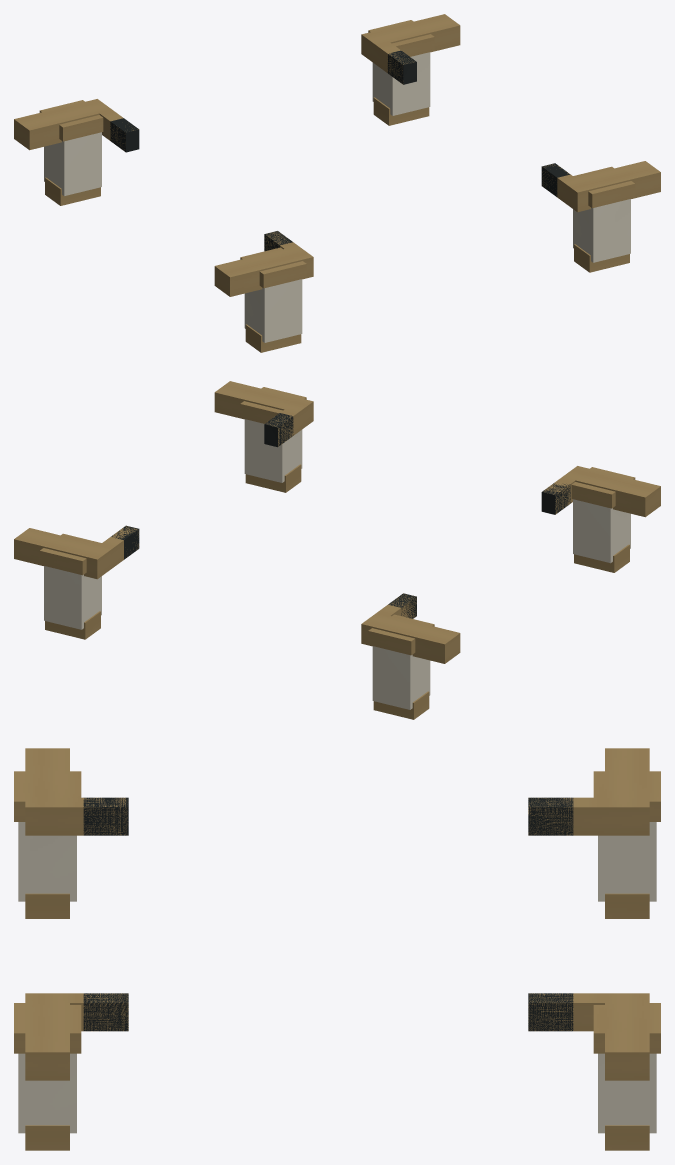
The model's file is AUDIT_AST-TRM-G4-026_cart_restraint_hardware_r003.glb.
3 renders of one model, top to bottom at view 1: azimuth 30°, elevation 25°; view 2: azimuth 150°, elevation 25°; view 3: azimuth 270°, elevation 25°, orthographic. The views are drawn at different scales.
Visible parts, largest first — view 1: PORT_1_DrivePod, STARBOARD_1_DrivePod, PORT_0_DrivePod, STARBOARD_0_DrivePod, PORT_1_SliderArm, PORT_0_SliderArm, STARBOARD_0_SliderArm, STARBOARD_1_SliderArm, STARBOARD_0_CornerFinger, STARBOARD_1_CornerFinger, PORT_1_PodCrown, STARBOARD_1_PodCrown (+11 smaller); view 2: PORT_0_DrivePod, STARBOARD_0_DrivePod, PORT_1_DrivePod, STARBOARD_1_DrivePod, PORT_0_SliderArm, PORT_1_SliderArm, STARBOARD_0_SliderArm, STARBOARD_1_SliderArm, STARBOARD_0_CornerFinger, STARBOARD_1_CornerFinger, PORT_0_PodCrown, STARBOARD_0_PodCrown (+11 smaller); view 3: PORT_0_CornerFinger, STARBOARD_0_SliderArm, STARBOARD_1_SliderArm, PORT_0_DrivePod, PORT_1_DrivePod, STARBOARD_0_DrivePod, STARBOARD_1_DrivePod, PORT_1_CornerFinger, PORT_0_SliderArm, PORT_1_SliderArm, STARBOARD_0_CornerFinger, PORT_0_ContactPad (+12 smaller).
Part boxes in pixels (<box>): PORT_1_DrivePod: <box>244,279,302,342</box>; STARBOARD_1_DrivePod: <box>573,199,630,262</box>; PORT_0_DrivePod: <box>44,132,101,196</box>; STARBOARD_0_DrivePod: <box>372,52,430,115</box>; PORT_1_SliderArm: <box>214,247,307,296</box>; PORT_0_SliderArm: <box>14,100,107,150</box>; STARBOARD_0_SliderArm: <box>367,14,460,52</box>; STARBOARD_1_SliderArm: <box>568,161,660,210</box>; STARBOARD_0_CornerFinger: <box>361,31,414,84</box>; STARBOARD_1_CornerFinger: <box>541,164,590,212</box>; PORT_1_PodCrown: <box>240,247,306,288</box>; STARBOARD_1_PodCrown: <box>573,166,635,208</box>; PORT_0_DrivePod: <box>372,646,430,709</box>; STARBOARD_0_DrivePod: <box>44,566,101,629</box>; PORT_1_DrivePod: <box>573,499,630,563</box>; STARBOARD_1_DrivePod: <box>244,419,302,482</box>; PORT_0_SliderArm: <box>367,615,460,663</box>; PORT_1_SliderArm: <box>567,467,660,517</box>; STARBOARD_0_SliderArm: <box>14,528,98,577</box>; STARBOARD_1_SliderArm: <box>214,381,307,419</box>; STARBOARD_0_CornerFinger: <box>84,526,139,579</box>; STARBOARD_1_CornerFinger: <box>266,398,313,446</box>; PORT_0_PodCrown: <box>368,614,434,655</box>; STARBOARD_0_PodCrown: <box>39,533,101,575</box>; PORT_0_CornerFinger: <box>528,797,649,835</box>; STARBOARD_0_SliderArm: <box>605,997,649,1080</box>; STARBOARD_1_SliderArm: <box>25,997,69,1080</box>; PORT_0_DrivePod: <box>598,822,656,901</box>; PORT_1_DrivePod: <box>18,822,76,901</box>; STARBOARD_0_DrivePod: <box>598,1053,656,1133</box>; STARBOARD_1_DrivePod: <box>18,1053,76,1133</box>; PORT_1_CornerFinger: <box>25,797,128,835</box>; PORT_0_SliderArm: <box>605,748,649,803</box>; PORT_1_SliderArm: <box>25,748,69,803</box>; STARBOARD_0_CornerFinger: <box>528,993,649,1031</box>; PORT_0_ContactPad: <box>528,797,573,835</box>.
Bounding box in the file's own units: 1.6 × 0.295 × 1.44.
Materials: 3 (3 with a texture image).
